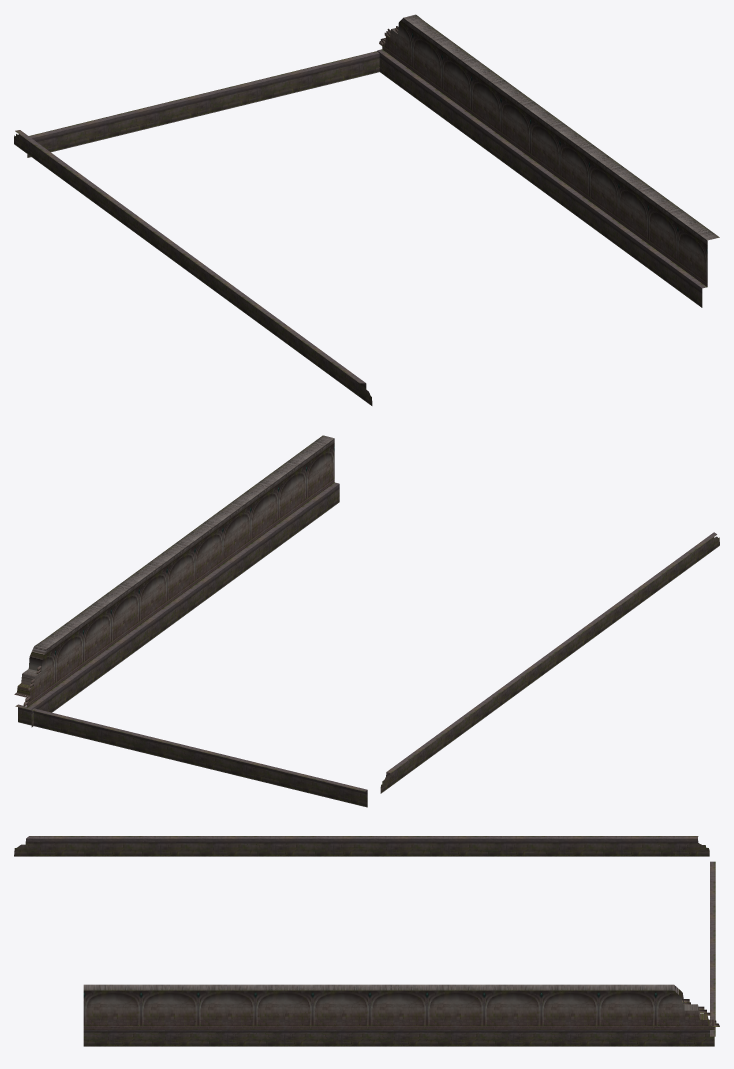
Rendered from qiang_wei1.FBX.
3 renders of one model, top to bottom at view 1: azimuth 30°, elevation 25°; view 2: azimuth 150°, elevation 25°; view 3: azimuth 270°, elevation 25°, orthographic. The views are drawn at different scales.
Visible parts, largest first — view 1: qiang, Object515, Object514; view 2: qiang, Object515, Object514; view 3: qiang, Object514, Object515.
Part boxes in pixels (x1,y1,x2,y2): qiang: (377,14,719,307); Object515: (27,51,379,157); Object514: (14,130,372,405); qiang: (14,435,339,727); Object515: (15,704,367,807); Object514: (380,532,719,793); qiang: (83,984,719,1046); Object514: (14,836,709,856); Object515: (710,861,715,1036).
Bounding box in the file's own units: 4391 × 717 × 7100.
